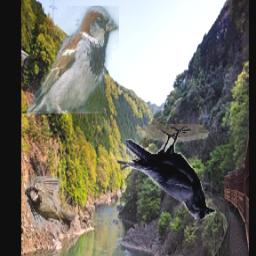Crow: (124, 124, 215, 219)
Sparrow: (27, 7, 119, 115), (24, 176, 75, 234)
